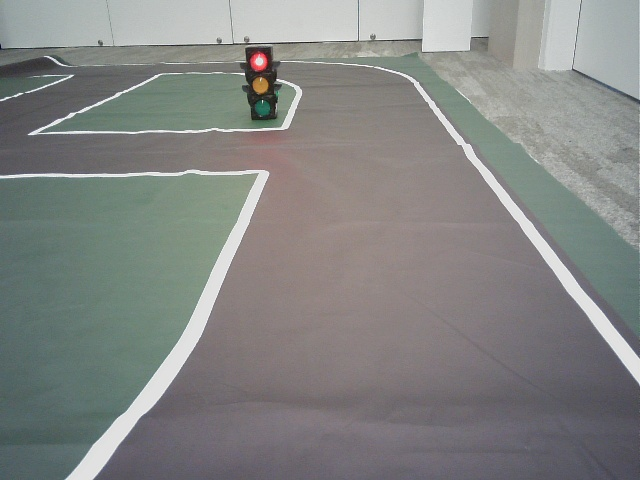red: (247, 51, 275, 115)
